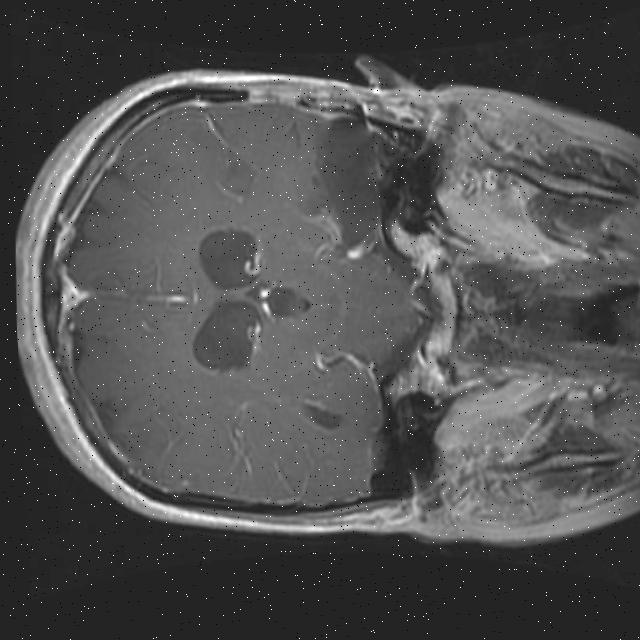Glioma: (309, 108, 392, 259)
Pituitary: (419, 265, 461, 359)
